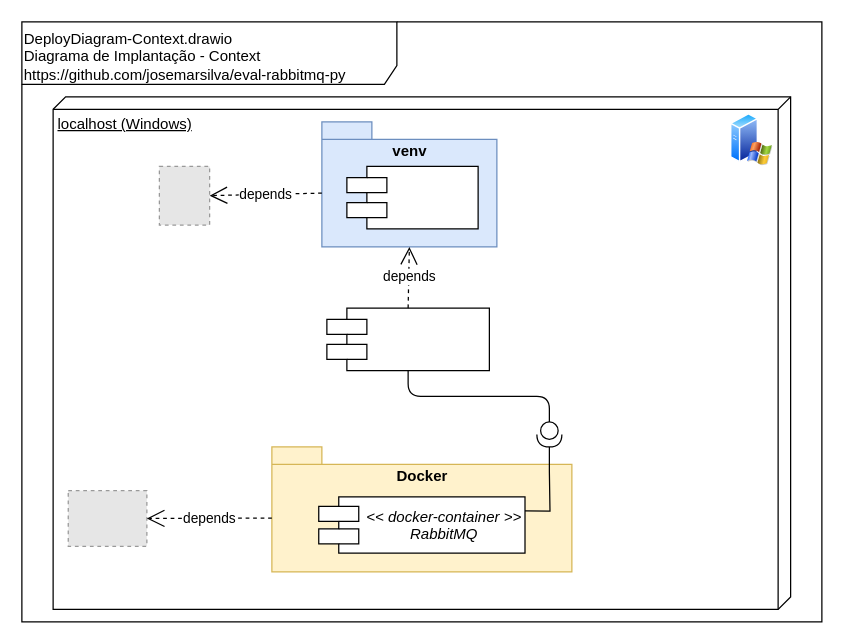
The diagram is 844 pixels wide and 644 high, and some of its shapes have lost their labels. Grey dashed boxes stand in for pictures. Each missing label, with the centre of its shape:
"eval-rabbitmq-py" goes at [407,339].
"PyAutoGUI, Pillow" goes at [412,197].
